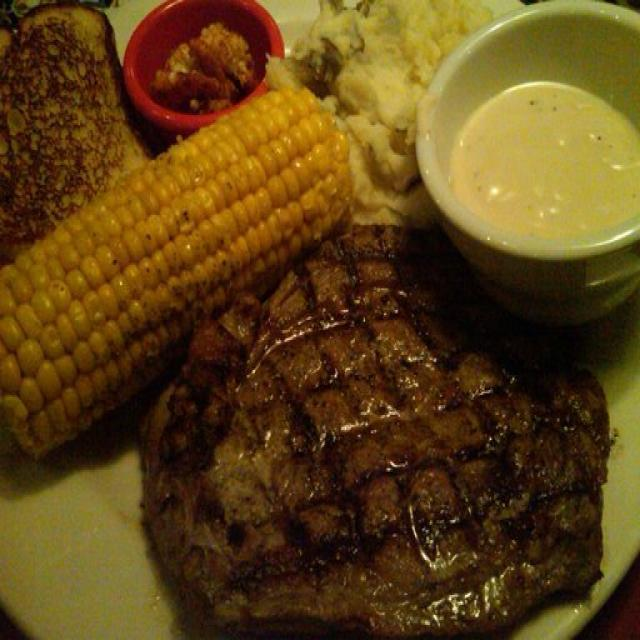Steak: (169, 281, 620, 640)
